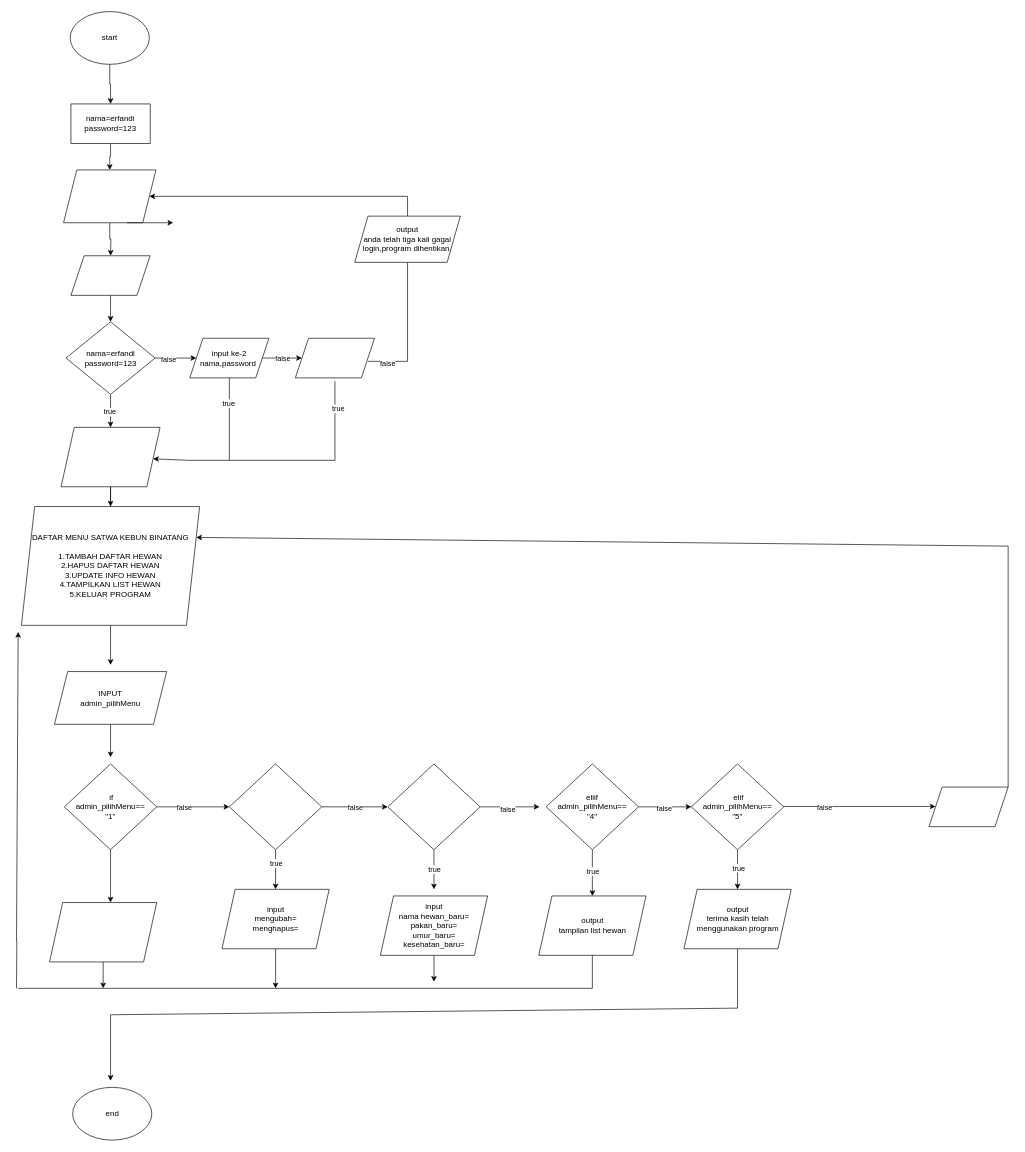
Image size: 1025x1152. Some labels were removed from this diagram. The centre of each missing label's shape, as x and y in pixels:
"pilihan tidak valid": point 968,806
elif admin_pilihMenu== "2": point 275,806
elif admin_pilihMenu== "3": point 433,806
input ke-1 nama,password: point 110,275
input ke-3 nama,password: point 335,358
input nama hewan= pakan= umur= kesehatan=: point 103,932
output "==LOGIN==" "masukan nama dan password anda": point 109,196
output "anda berhasil login,selamat datang": point 110,457
